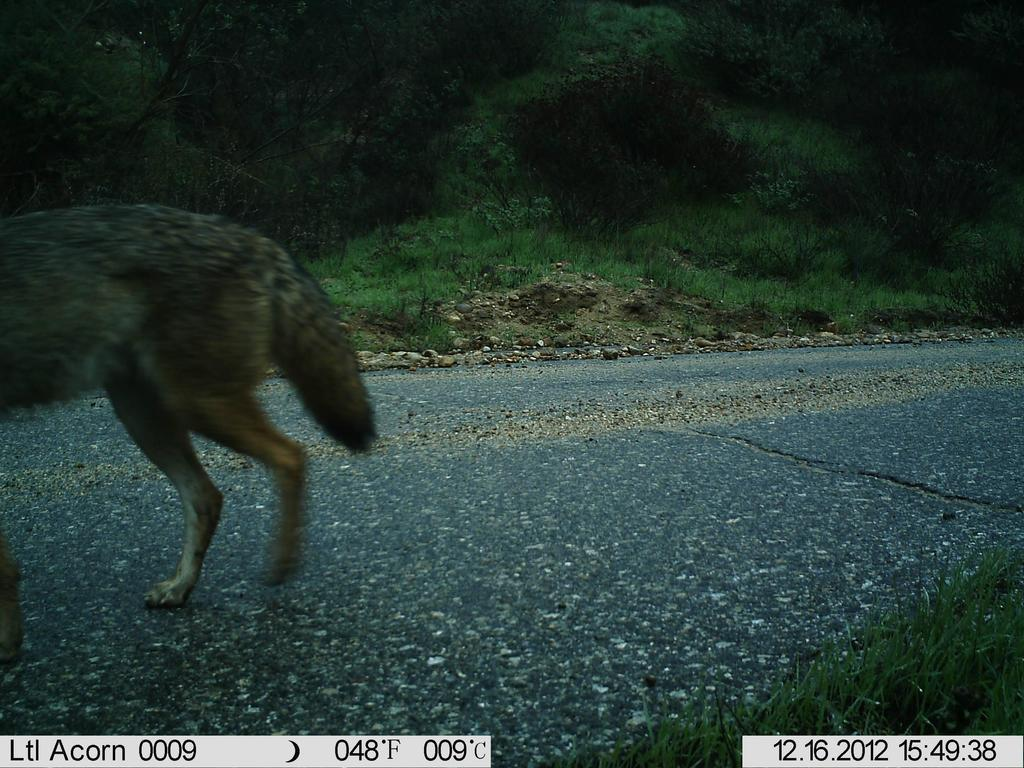coyote: (3, 193, 381, 643)
